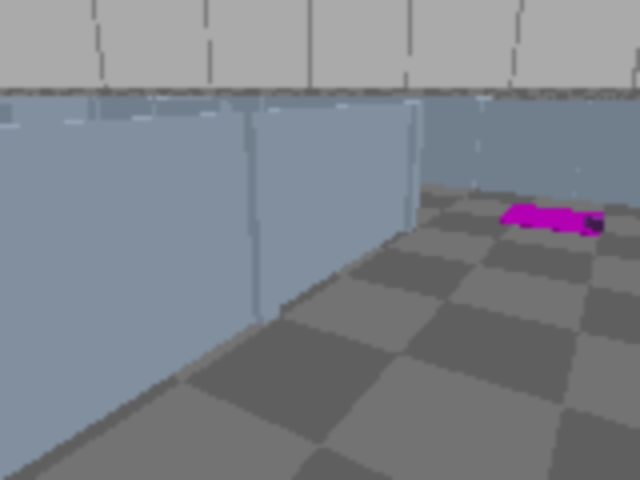goal_zone: (498, 203, 606, 237)
puck: (584, 215, 604, 231)
